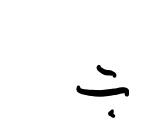div: (73, 63, 127, 118)
